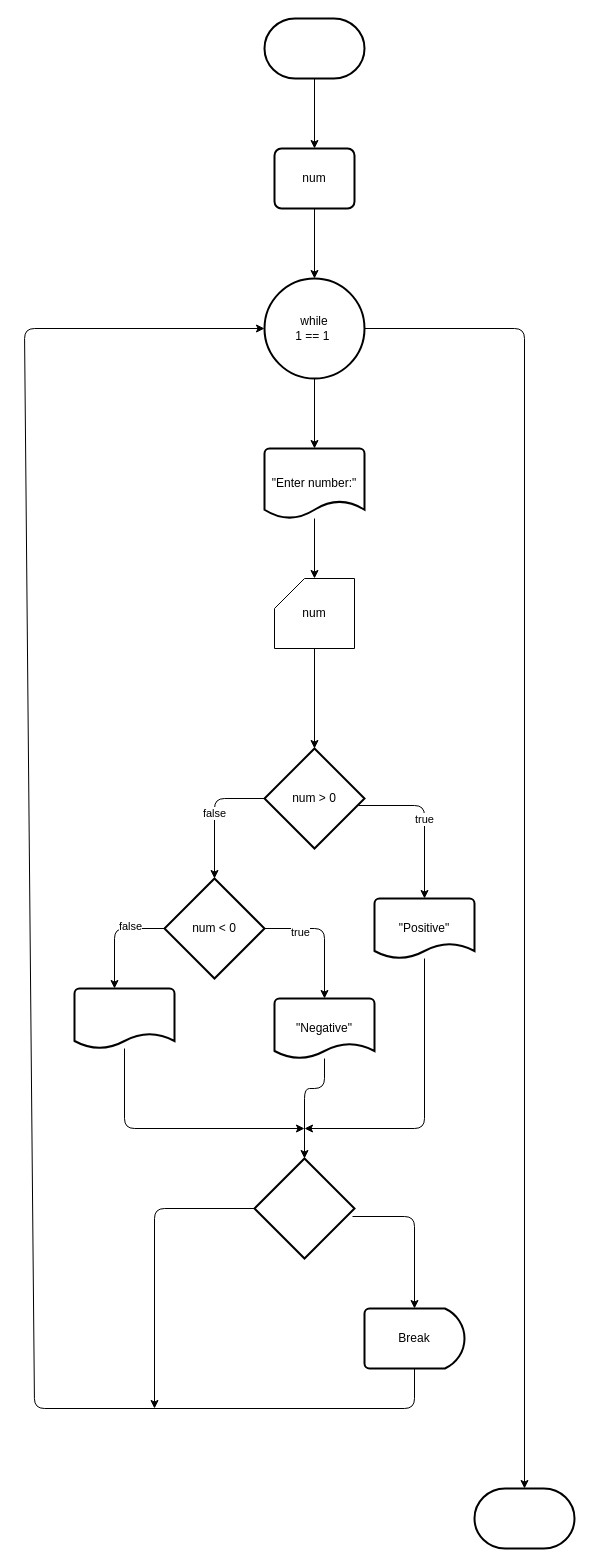
Some shapes in this 593 by 1566 pixel diagram are drawn without their labels. The box of each missing label's shape, as (x1, y1, x2, y2) in pixels:
"Zero": (73, 987, 175, 1049)
(num % 7) == 0: (253, 1157, 355, 1259)
Start: (263, 17, 365, 79)
Stop: (473, 1487, 575, 1549)
